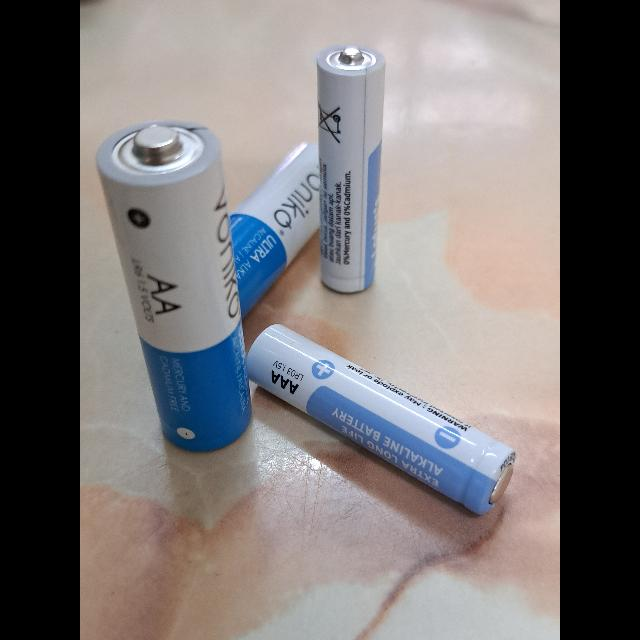bateria: (247, 323, 518, 517), (94, 121, 253, 451), (316, 46, 386, 294), (228, 138, 318, 314)
